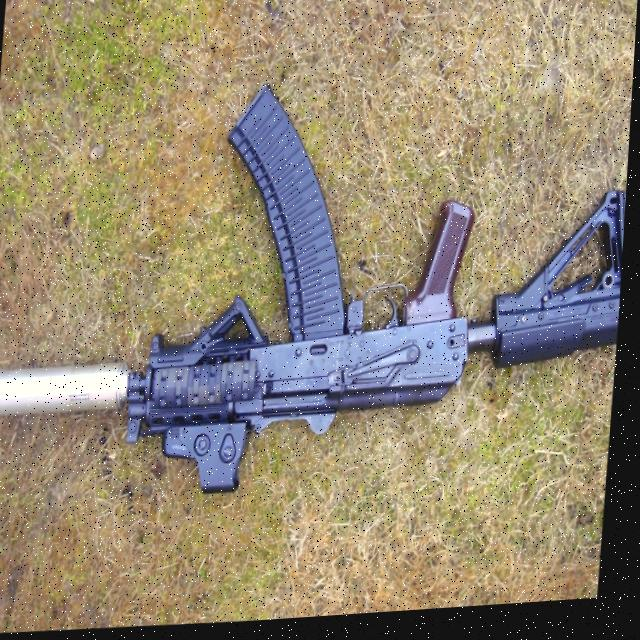firearm: (0, 64, 635, 517)
